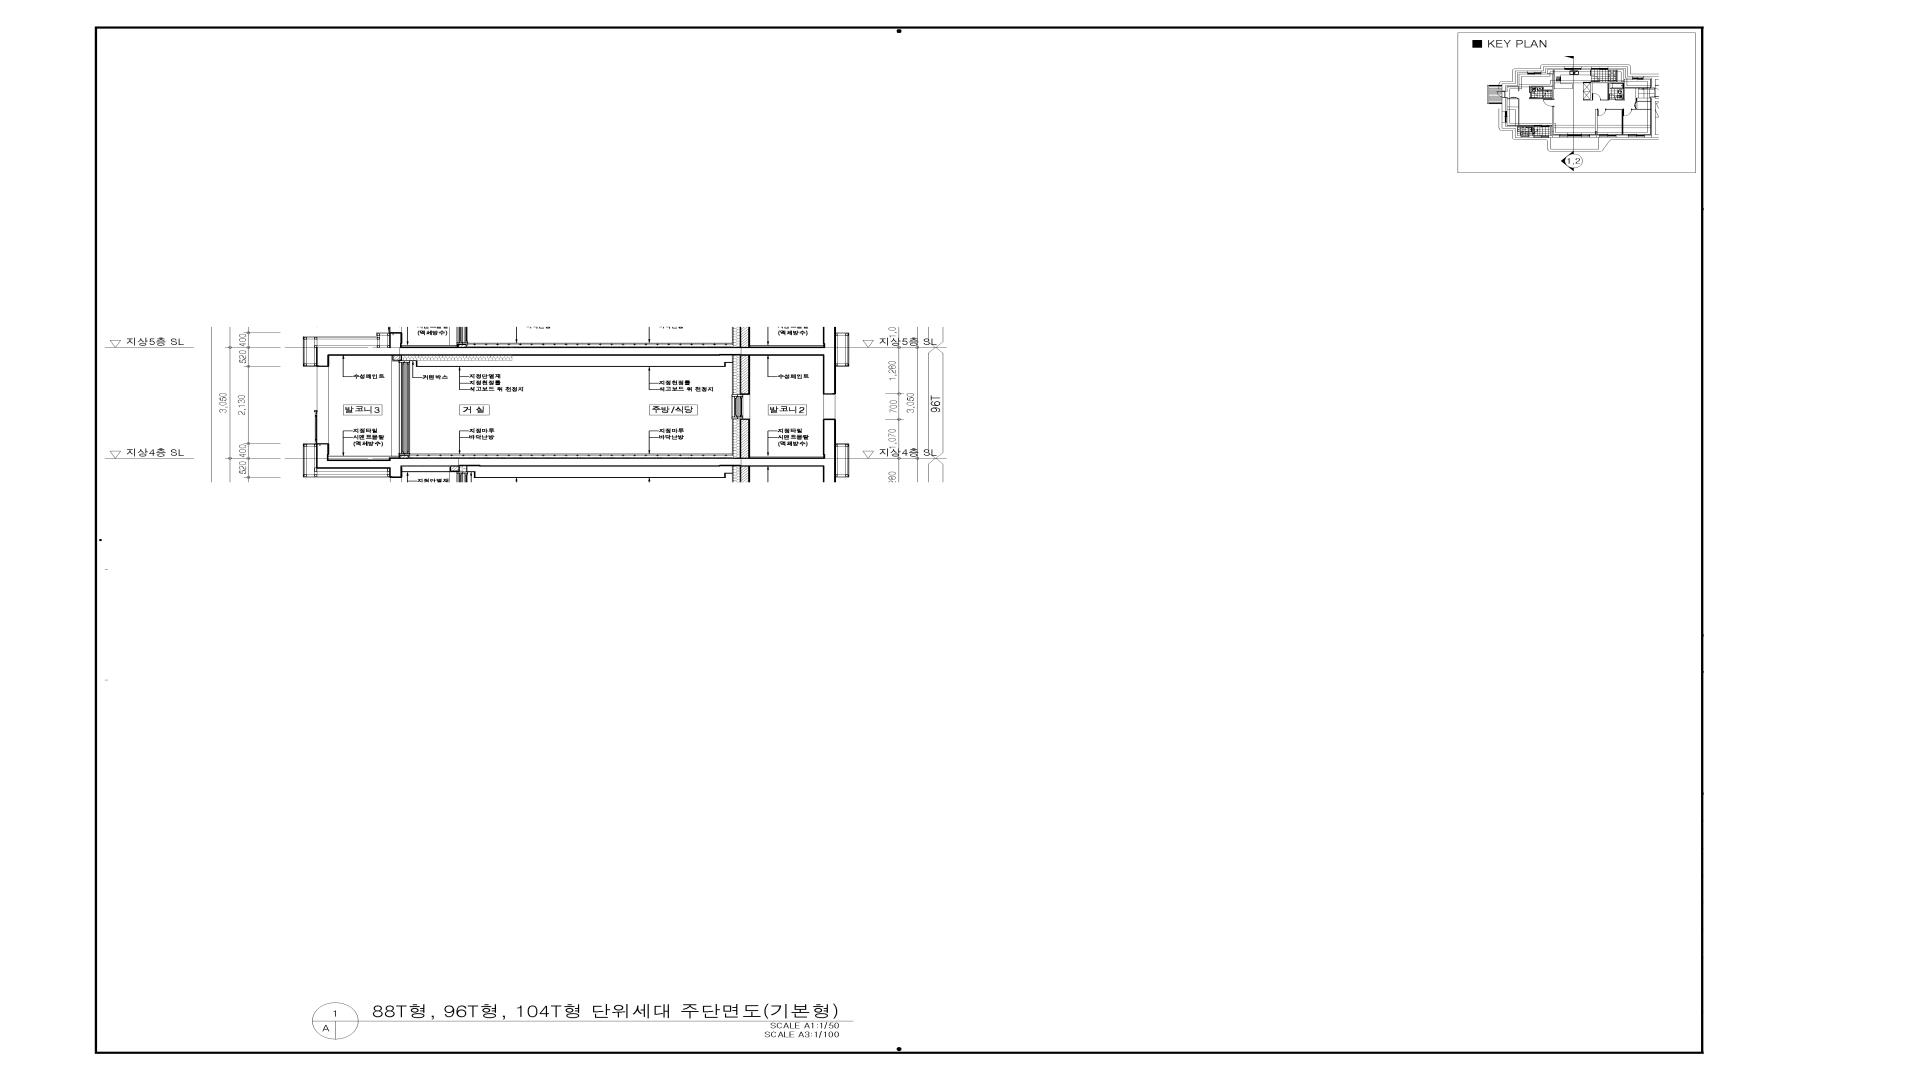wall: (316, 418, 836, 468), (316, 347, 836, 394), (740, 356, 750, 394), (740, 419, 750, 458), (392, 356, 402, 361), (398, 455, 410, 458)
window: (392, 361, 410, 456), (316, 367, 328, 443), (732, 394, 750, 419), (824, 394, 836, 418)
